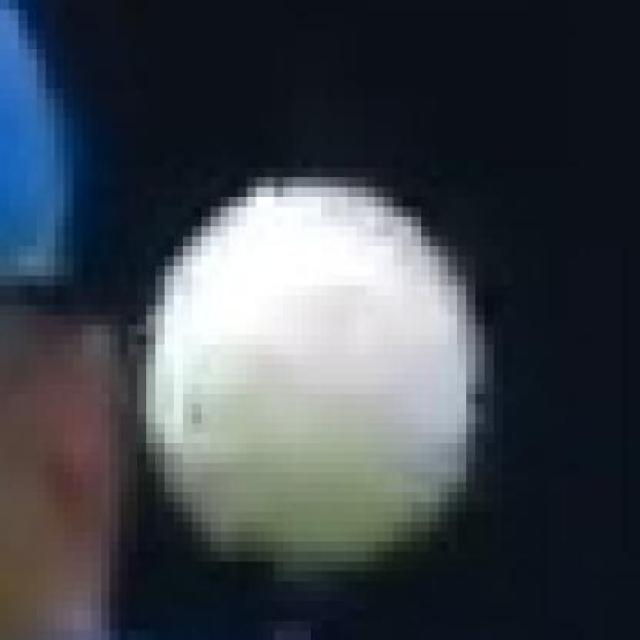Cricket ball: (128, 168, 506, 581)
